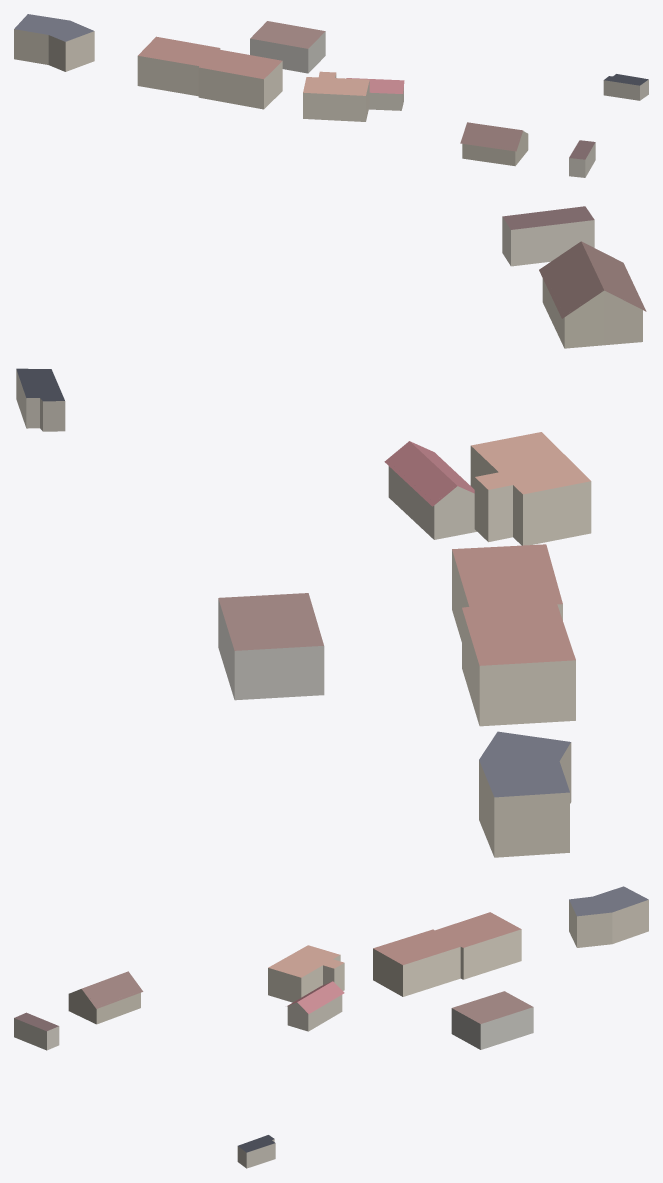
3 views of the same model, one above another, from view 1: azimuth 30°, elevation 25°; view 2: azimuth 150°, elevation 25°; view 3: azimuth 270°, elevation 25° (orthographic). The views are drawn at different scales.
Visible parts, largest first — view 1: tuile; view 2: tuile; view 3: tuile.
Part boxes in pixels (bbox=[...]): tuile: bbox=[14, 14, 648, 177]; tuile: bbox=[16, 206, 646, 857]; tuile: bbox=[14, 886, 648, 1168].
Bounding box in the file's own units: 116 × 17.38 × 133.
